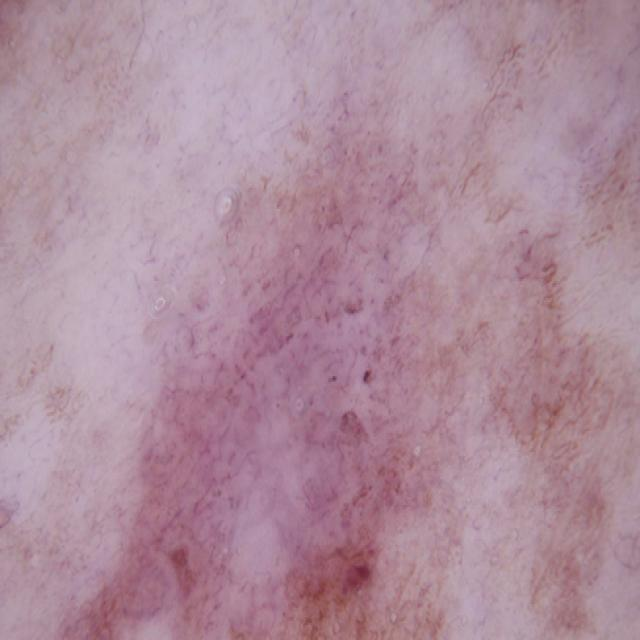Keratosis: (49, 207, 570, 640)
